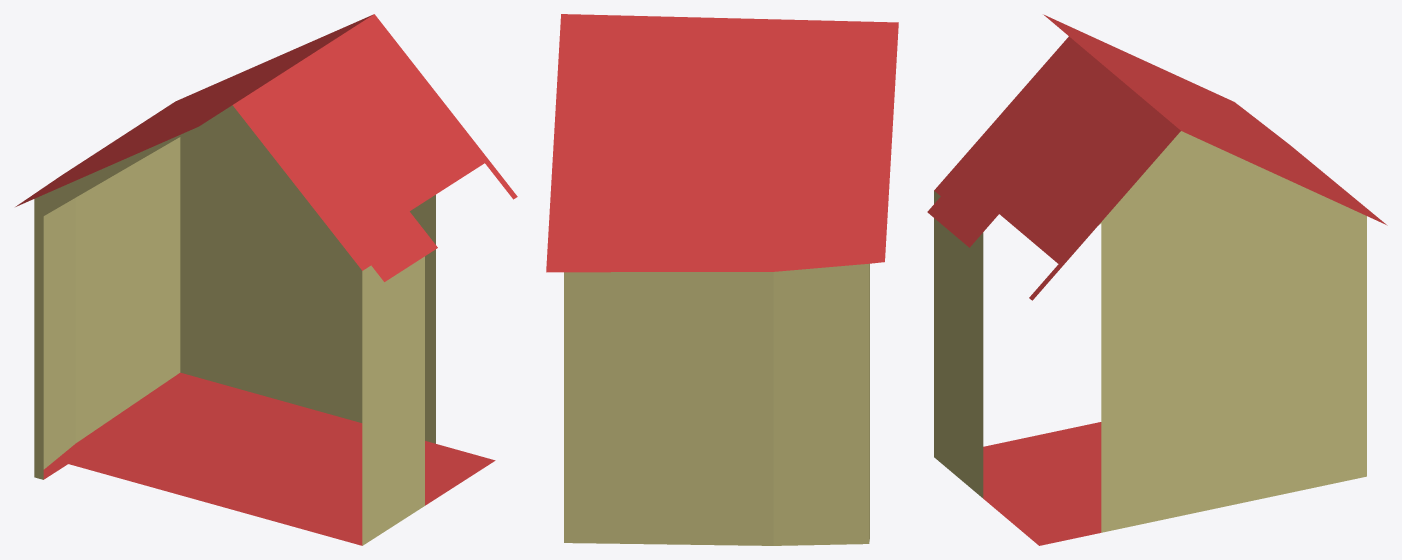
The picture shows the model from 3 angles, left to right: view 1: azimuth 30°, elevation 25°; view 2: azimuth 150°, elevation 25°; view 3: azimuth 270°, elevation 25°; orthographic projection. The views are drawn at different scales.
Bounding box in the file's own units: 14.56 × 15 × 14.1.
